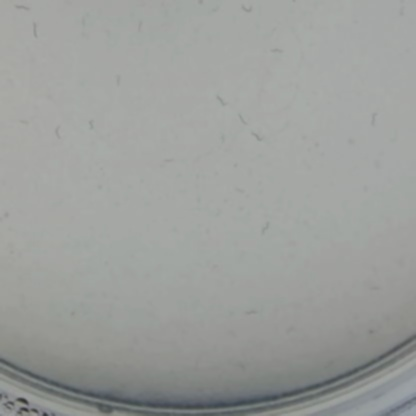worm: (244, 124, 276, 152), (264, 44, 298, 65), (50, 120, 72, 148), (19, 22, 48, 42), (77, 112, 102, 135), (237, 0, 263, 22), (106, 72, 133, 93), (279, 0, 306, 21), (362, 105, 386, 128), (130, 16, 152, 40), (252, 220, 278, 240), (209, 94, 234, 114), (388, 0, 412, 20), (226, 179, 248, 200), (70, 14, 95, 32), (11, 0, 38, 16), (231, 109, 251, 129), (237, 305, 262, 321), (13, 116, 35, 132), (161, 154, 176, 169)
